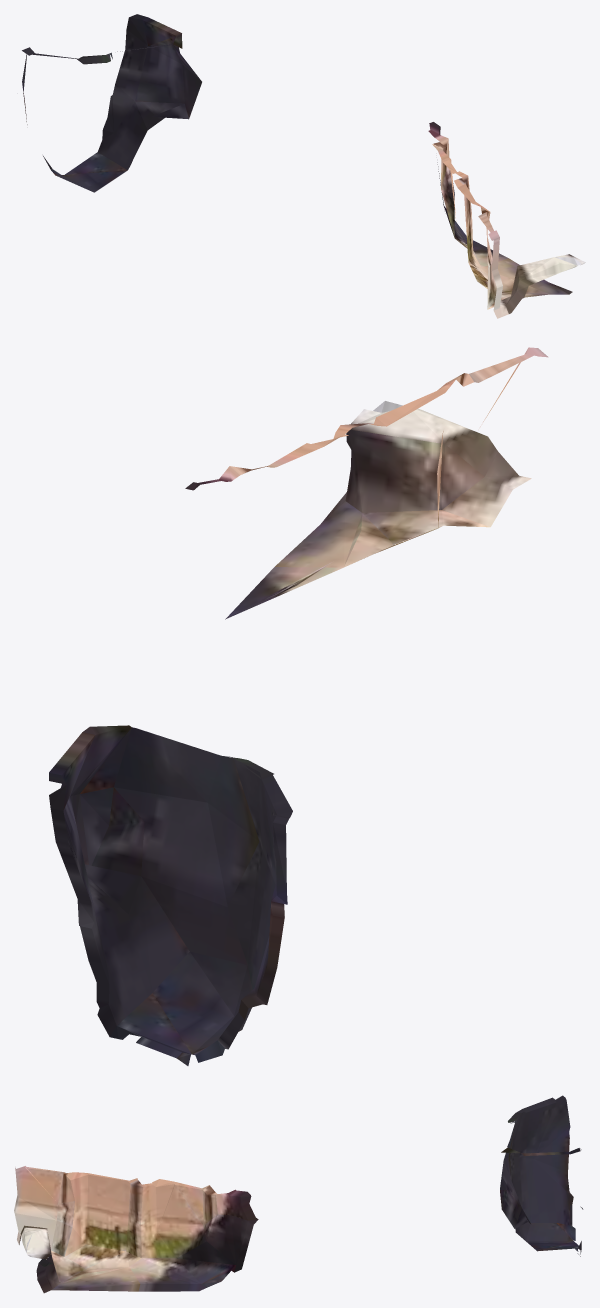
The picture shows the model from 3 angles, top to bottom: view 1: azimuth 30°, elevation 25°; view 2: azimuth 150°, elevation 25°; view 3: azimuth 270°, elevation 25°; orthographic projection. The views are drawn at different scales.
Visible parts, largest first — view 1: Mesh_0; view 2: Mesh_0; view 3: Mesh_0.
Part boxes in pixels (left/top/right/bottom): Mesh_0: left=22, top=14, right=585, bottom=318; Mesh_0: left=49, top=347, right=548, bottom=1065; Mesh_0: left=14, top=1095, right=583, bottom=1293.
Bounding box in the file's own units: 18.08 × 9.93 × 38.45.
1 material, 1 textured.
